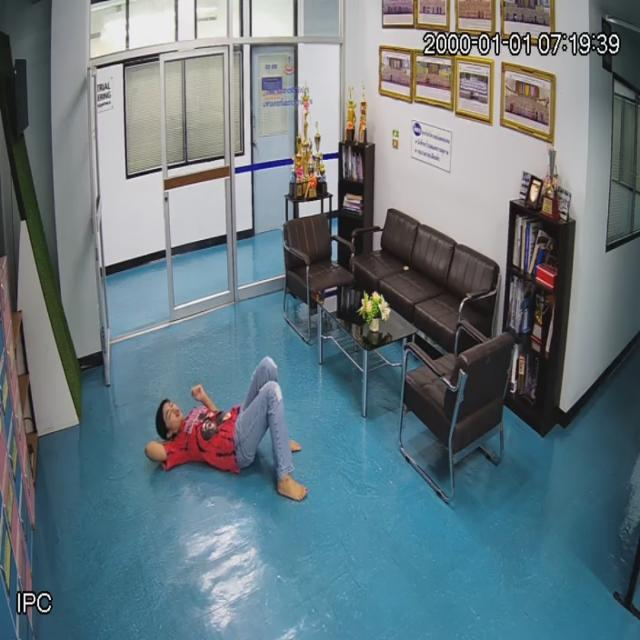fall: (146, 357, 294, 495)
